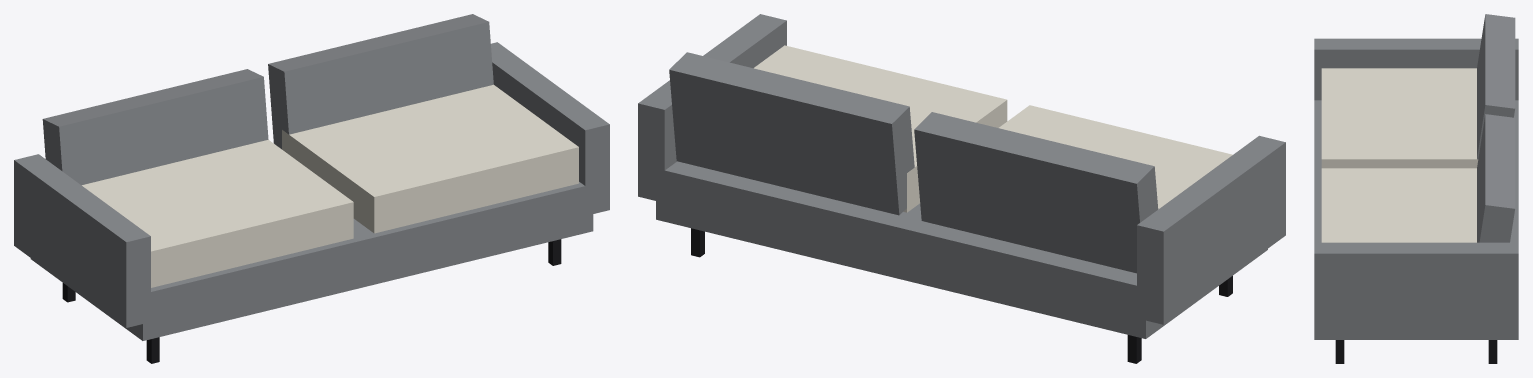
File: GH_Sofa_Modern_01.glb
The picture shows the model from 3 angles, left to right: view 1: azimuth 30°, elevation 25°; view 2: azimuth 150°, elevation 25°; view 3: azimuth 270°, elevation 25°; orthographic projection. The views are drawn at different scales.
Parts seen in each view (by area): view 1: GH_Sofa_Modern_01; view 2: GH_Sofa_Modern_01; view 3: GH_Sofa_Modern_01.
Part boxes in pixels (bbox=[...]): GH_Sofa_Modern_01: bbox=[14, 14, 609, 363]; GH_Sofa_Modern_01: bbox=[638, 14, 1285, 363]; GH_Sofa_Modern_01: bbox=[1314, 14, 1518, 363].
Size of the model in its own units: 2.36 by 0.8377 by 0.95.
1 material, 1 textured.
